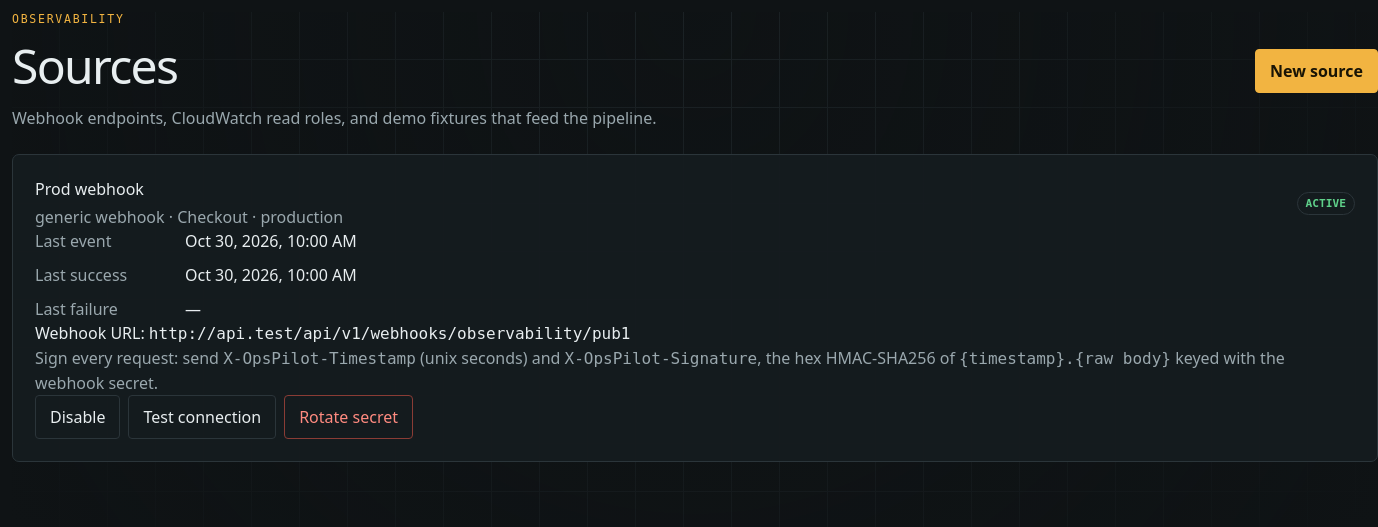
Test: source management › shows throttled connectivity result
What coordinates should you click on to do the following:
click the button "Test connection"
I would click on:
 (202, 417)
Its box is [128, 395, 276, 439].
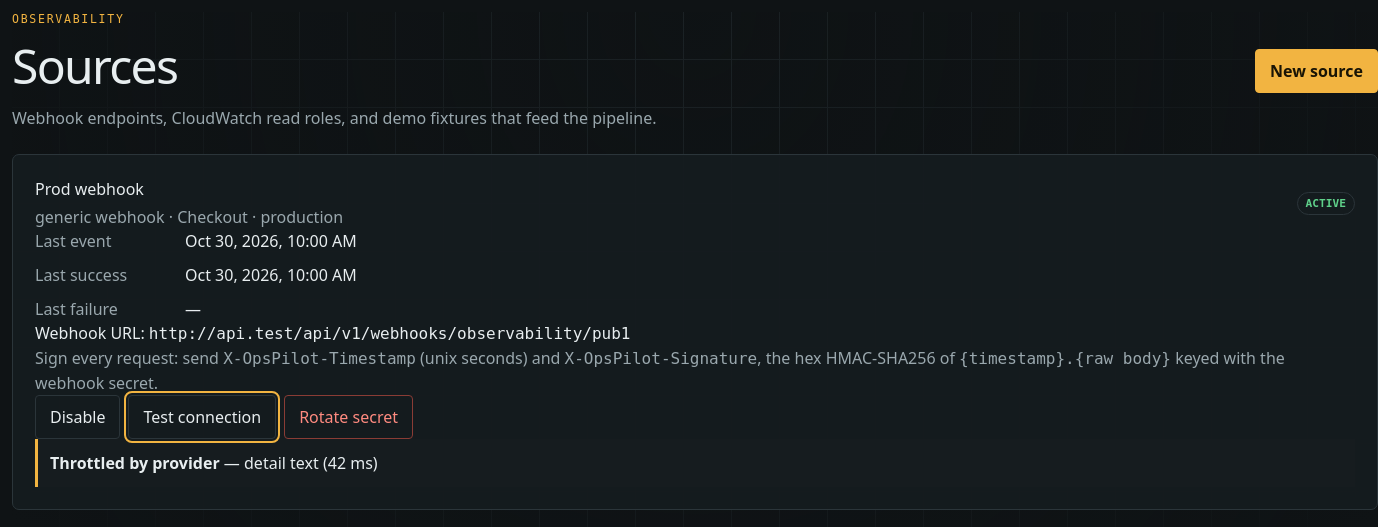
Result: the text "Throttled by provider" is shown at [50, 452, 220, 474]
Result: the text "Throttled by provider — detail text (42 ms)" is shown at [35, 439, 1355, 487]
